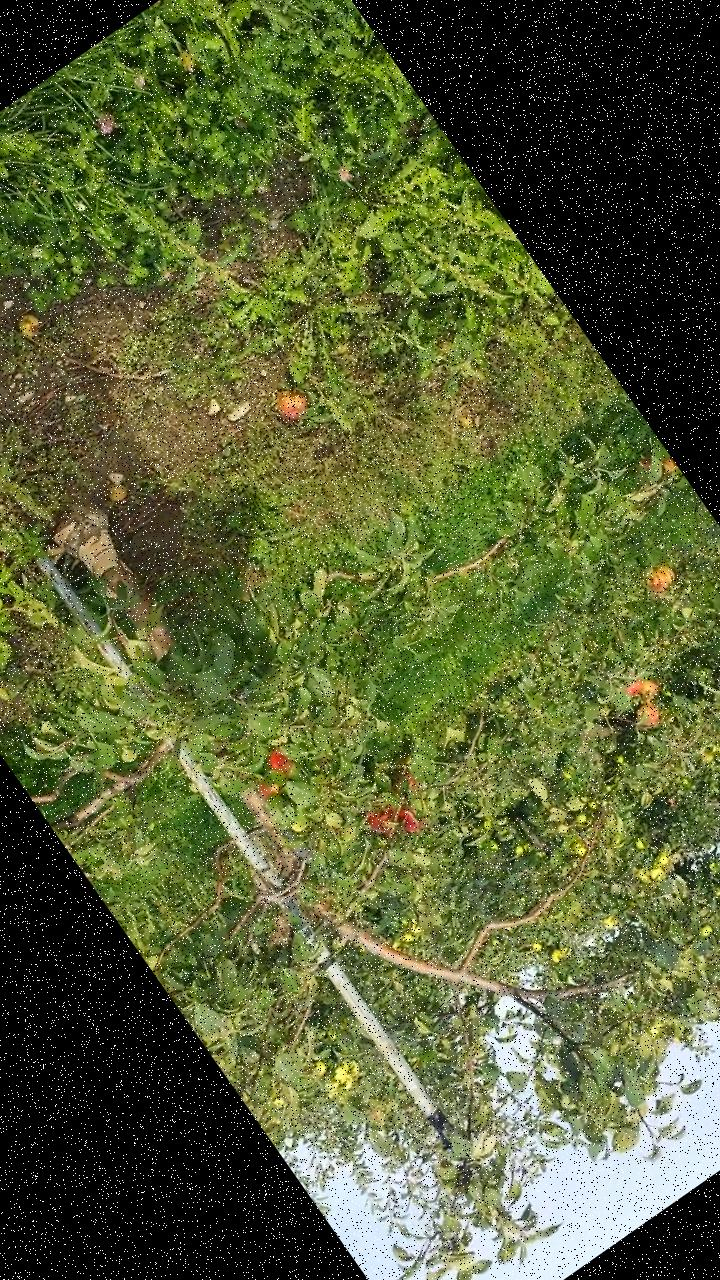Apple: (362, 799, 402, 839), (260, 744, 296, 780), (393, 801, 428, 836), (646, 562, 680, 594), (254, 771, 286, 803), (634, 698, 665, 729), (634, 672, 664, 702), (656, 454, 680, 480), (623, 676, 648, 700), (402, 771, 422, 793), (638, 452, 656, 472)
